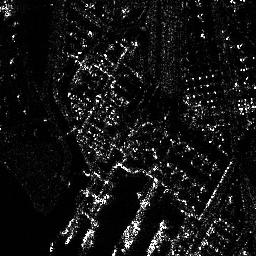ship: (146, 219, 167, 255), (120, 226, 140, 254)
